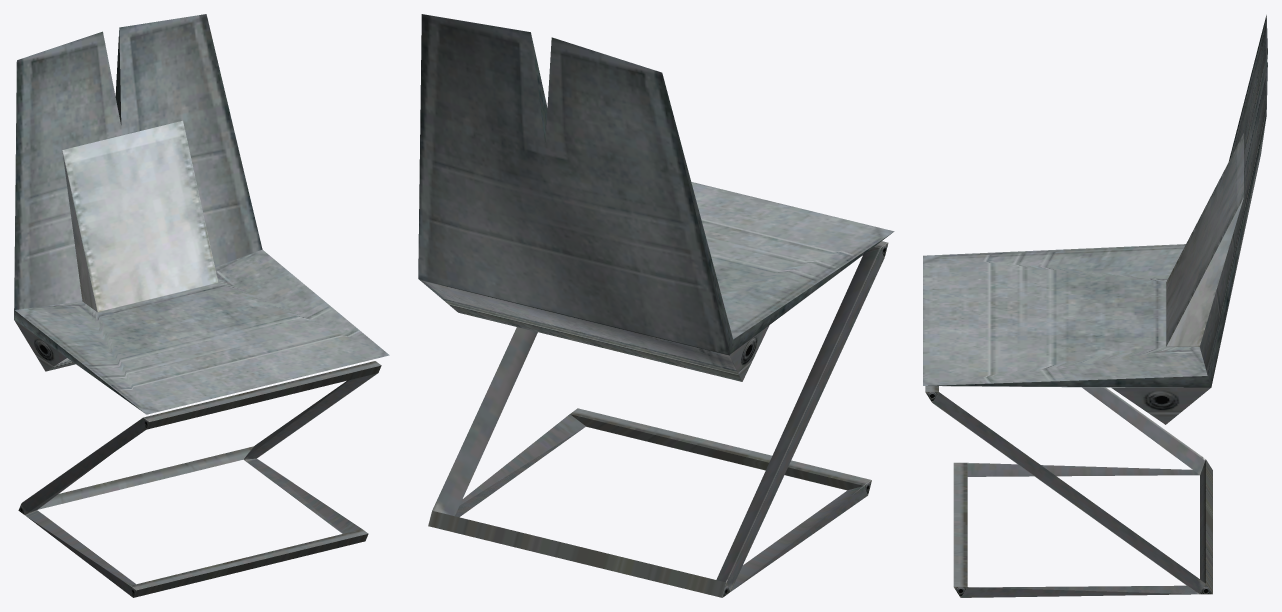
File: eqp_camping_chair_s2_l1.fbx
3 views of the same model, side by side, from view 1: azimuth 30°, elevation 25°; view 2: azimuth 150°, elevation 25°; view 3: azimuth 270°, elevation 25° (orthographic). The views are drawn at different scales.
Visible parts, largest first — view 1: mesh_node; view 2: mesh_node; view 3: mesh_node.
Part boxes in pixels (x1,y1,x2,y2): mesh_node: (14, 14, 389, 597); mesh_node: (418, 14, 894, 597); mesh_node: (923, 15, 1267, 597).
Bounding box in the file's own units: 0.5209 × 0.8777 × 0.5718.
